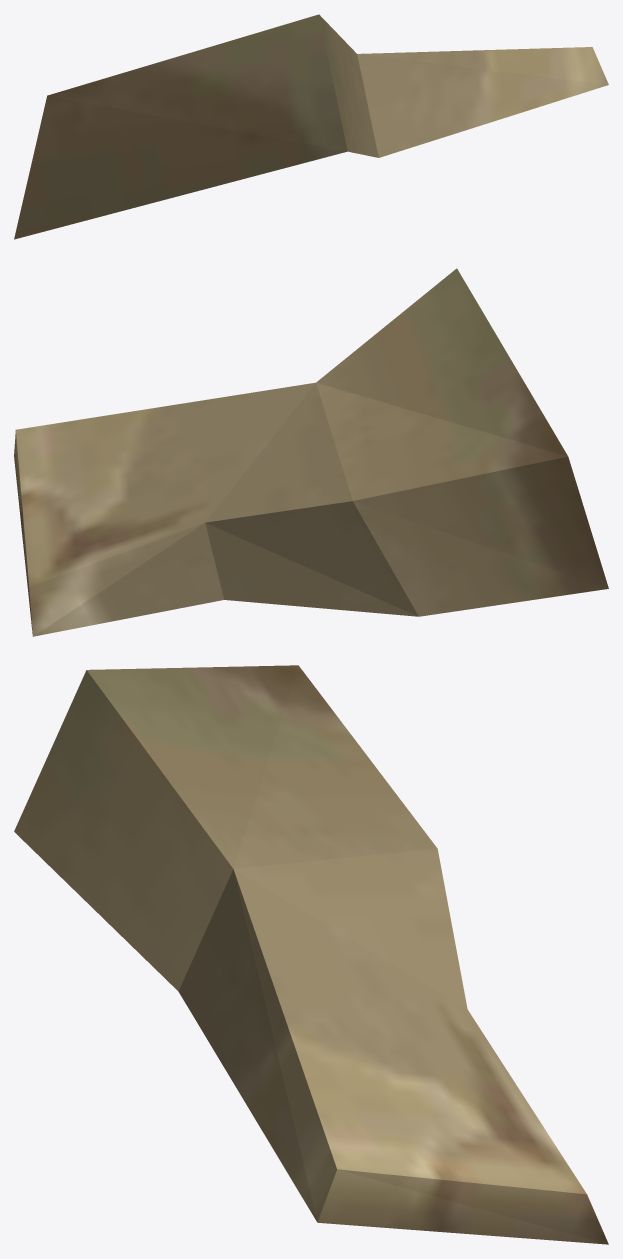
File: caodi_jtsp_01.fbx
The picture shows the model from 3 angles, top to bottom: view 1: azimuth 30°, elevation 25°; view 2: azimuth 150°, elevation 25°; view 3: azimuth 270°, elevation 25°; orthographic projection. The views are drawn at different scales.
Visible parts, largest first — view 1: caodi_jtsp_01; view 2: caodi_jtsp_01; view 3: caodi_jtsp_01.
Part boxes in pixels (x1,y1,x2,y2): caodi_jtsp_01: (14, 14, 608, 239); caodi_jtsp_01: (14, 268, 608, 636); caodi_jtsp_01: (14, 665, 608, 1244).
Bounding box in the file's own units: 3.77 × 1.8 × 2.36.
